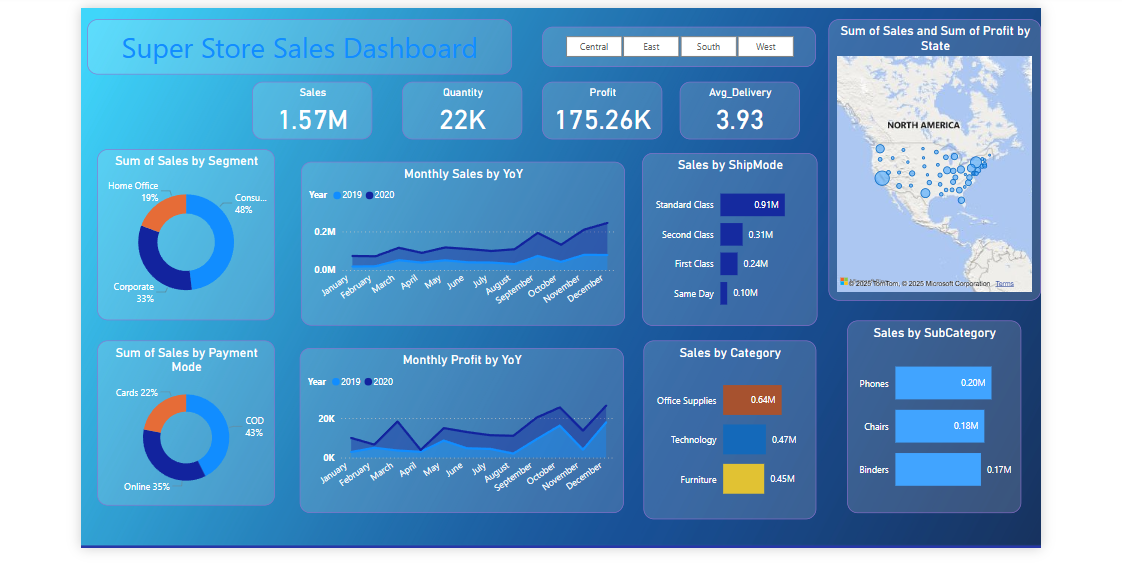

What the dashboard file says about the page in this screenshot:
{"tool":"powerbi","page":{"name":"Page 1","canvas":[1280,720],"ordinal":0},"visuals":[{"type":"clusteredBarChart","title":" Sales by Category","fields":{"Category":["SuperStore_Sales_Dataset.Category"],"Y":["Sum(SuperStore_Sales_Dataset.Sales)"]},"box":[752.5,436.2,230,237.5],"z":0},{"type":"clusteredBarChart","title":" Sales by SubCategory","fields":{"Category":["SuperStore_Sales_Dataset.Sub-Category"],"Y":["Sum(SuperStore_Sales_Dataset.Sales)"]},"box":[1021.7,416.7,231.7,256.7],"z":1000},{"type":"clusteredBarChart","title":" Sales by ShipMode","fields":{"Category":["SuperStore_Sales_Dataset.Ship Mode"],"Y":["Sum(SuperStore_Sales_Dataset.Sales)"]},"box":[748.3,193.3,233.3,230],"z":2000},{"type":"stackedAreaChart","title":"Monthly Sales by YoY","fields":{"Category":["SuperStore_Sales_Dataset.Order Date.Variation.Date Hierarchy.Month"],"Y":["Sum(SuperStore_Sales_Dataset.Sales)"],"Series":["SuperStore_Sales_Dataset.Order Date.Variation.Date Hierarchy.Year"]},"box":[293.3,205,431.7,218.3],"z":3000},{"type":"stackedAreaChart","title":"Monthly Profit by YoY","fields":{"Category":["SuperStore_Sales_Dataset.Order Date.Variation.Date Hierarchy.Month"],"Series":["SuperStore_Sales_Dataset.Order Date.Variation.Date Hierarchy.Year"],"Y":["Sum(SuperStore_Sales_Dataset.Profit)"]},"box":[291.7,453.3,431.7,220],"z":4000},{"type":"map","fields":{"Category":["SuperStore_Sales_Dataset.State"],"Size":["Sum(SuperStore_Sales_Dataset.Sales)"]},"box":[996.7,15,283.3,375],"z":5000},{"type":"donutChart","title":" Sales by Segment","fields":{"Category":["SuperStore_Sales_Dataset.Segment"],"Y":["Sum(SuperStore_Sales_Dataset.Sales)"]},"box":[13.8,113.8,242.5,181.2],"z":6000},{"type":"donutChart","title":" Sales by Payment Mode","fields":{"Category":["SuperStore_Sales_Dataset.Payment Mode"],"Y":["Sum(SuperStore_Sales_Dataset.Sales)"]},"box":[13.8,308.8,242.5,177.5],"z":6001},{"type":"slicer","fields":{"Values":["SuperStore_Sales_Dataset.Region"]},"box":[615,25,365,53.3],"z":6002},{"type":"textbox","box":[8.3,15,566.7,73.3],"z":6003},{"type":"card","title":"Sales","fields":{"Values":["Sum(SuperStore_Sales_Dataset.Sales)"]},"box":[272.5,113.8,160,76.2],"z":6004},{"type":"card","title":"Profit","fields":{"Values":["Sum(SuperStore_Sales_Dataset.Profit)"]},"box":[637.5,101.2,160,76.2],"z":6005},{"type":"card","title":"Quantity","fields":{"Values":["Sum(SuperStore_Sales_Dataset.Quantity)"]},"box":[455,102.5,160,76.2],"z":6006},{"type":"card","title":"Avg_Delivery","fields":{"Values":["Avg(SuperStore_Sales_Dataset.Avg_Delivery)"]},"box":[820,100,160,76.2],"z":6007},{"type":"donutChart","title":" Sales by Region","fields":{"Category":["SuperStore_Sales_Dataset.Region"],"Y":["Sum(SuperStore_Sales_Dataset.Sales)"]},"box":[18.8,498.8,237.5,183.8],"z":6008}]}

Visuals, with their boxes on the page's 1280x720 design canvas (x1, y1, x2, y2). These are canvas units, not pixel positions in the 1122x588 screenshot, which may show the page scaled, cropped or inside an application window:
" Sales by Category" clusteredBarChart: rect(752, 436, 982, 674)
" Sales by SubCategory" clusteredBarChart: rect(1022, 417, 1253, 673)
" Sales by ShipMode" clusteredBarChart: rect(748, 193, 982, 423)
"Monthly Sales by YoY" stackedAreaChart: rect(293, 205, 725, 423)
"Monthly Profit by YoY" stackedAreaChart: rect(292, 453, 723, 673)
map - SuperStore_Sales_Dataset.State x Sum(SuperStore_Sales_Dataset.Sales): rect(997, 15, 1280, 390)
" Sales by Segment" donutChart: rect(14, 114, 256, 295)
" Sales by Payment Mode" donutChart: rect(14, 309, 256, 486)
slicer - SuperStore_Sales_Dataset.Region: rect(615, 25, 980, 78)
textbox: rect(8, 15, 575, 88)
"Sales" card: rect(272, 114, 432, 190)
"Profit" card: rect(638, 101, 798, 177)
"Quantity" card: rect(455, 102, 615, 179)
"Avg_Delivery" card: rect(820, 100, 980, 176)
" Sales by Region" donutChart: rect(19, 499, 256, 683)
